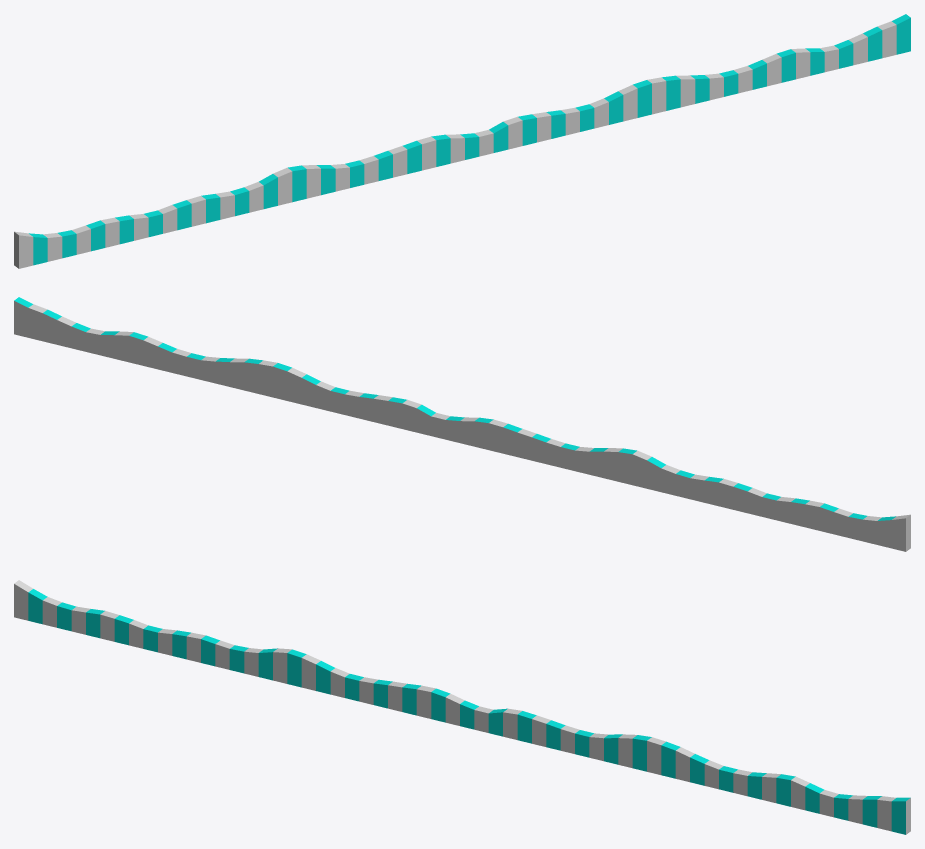
File: ShelfWaveCover.fbx
The picture shows the model from 3 angles, top to bottom: view 1: azimuth 30°, elevation 25°; view 2: azimuth 150°, elevation 25°; view 3: azimuth 330°, elevation 25°; orthographic projection.
Parts seen in each view (by area): view 1: ShelfWaveCover; view 2: ShelfWaveCover; view 3: ShelfWaveCover.
Part boxes in pixels (x1,y1,x2,y2): ShelfWaveCover: (14, 14, 910, 268); ShelfWaveCover: (14, 297, 910, 551); ShelfWaveCover: (14, 580, 910, 834).
Bounding box in the file's own units: 2146 × 77.39 × 21.
